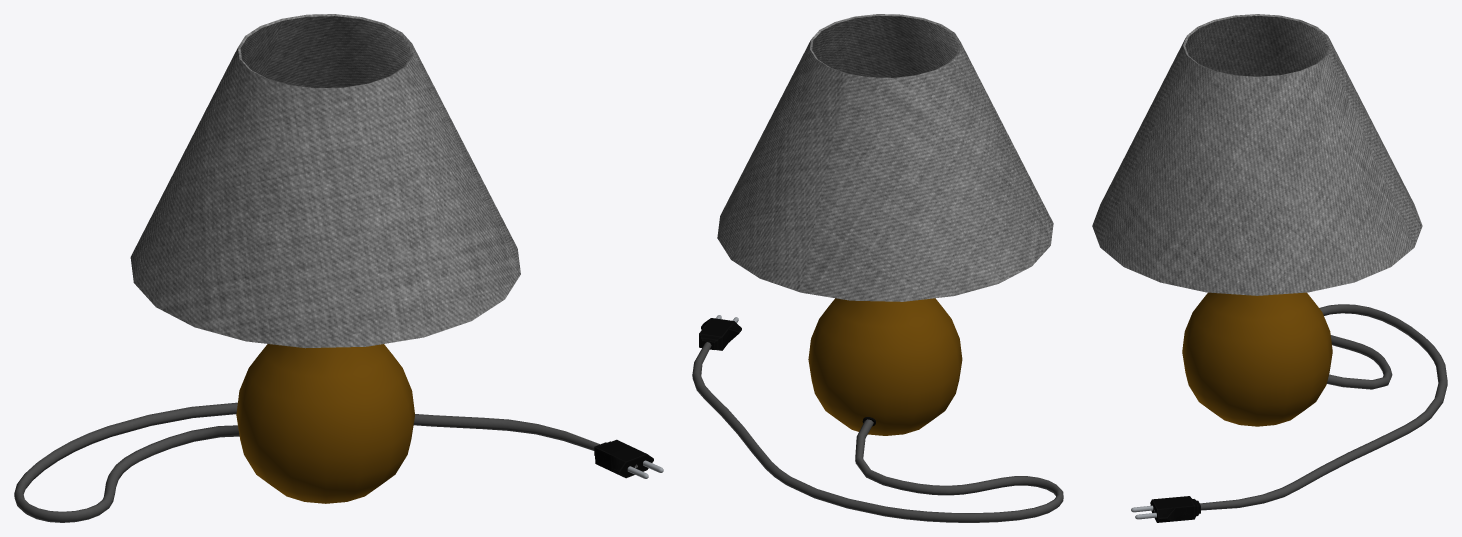
File: table_lamp.glb
3 renders of one model, left to right at view 1: azimuth 30°, elevation 25°; view 2: azimuth 150°, elevation 25°; view 3: azimuth 270°, elevation 25°, orthographic. The views are drawn at different scales.
Parts seen in each view (by area): view 1: candeeiro_low_Sep_11, candeeiro_low_Sep_7, candeeiro_low_Sep_5, candeeiro_low_Sep_4; view 2: candeeiro_low_Sep_11, candeeiro_low_Sep_7, candeeiro_low_Sep_5, candeeiro_low_Sep_4; view 3: candeeiro_low_Sep_11, candeeiro_low_Sep_7, candeeiro_low_Sep_5, candeeiro_low_Sep_4.
Boxes of the visible parts, x1,y1,x2,y2 form: candeeiro_low_Sep_11: (130,14,520,348); candeeiro_low_Sep_7: (236,344,414,503); candeeiro_low_Sep_5: (14,402,599,522); candeeiro_low_Sep_4: (594,439,653,478); candeeiro_low_Sep_11: (717,14,1053,301); candeeiro_low_Sep_7: (808,298,962,435); candeeiro_low_Sep_5: (692,342,1063,522); candeeiro_low_Sep_4: (699,318,741,350); candeeiro_low_Sep_11: (1092,14,1422,295); candeeiro_low_Sep_7: (1182,292,1332,426); candeeiro_low_Sep_5: (1200,304,1447,510); candeeiro_low_Sep_4: (1150,496,1200,522).
Size of the model in its own units: 0.1994 by 0.1607 by 0.1399.
Materials: 2 (2 with a texture image).
